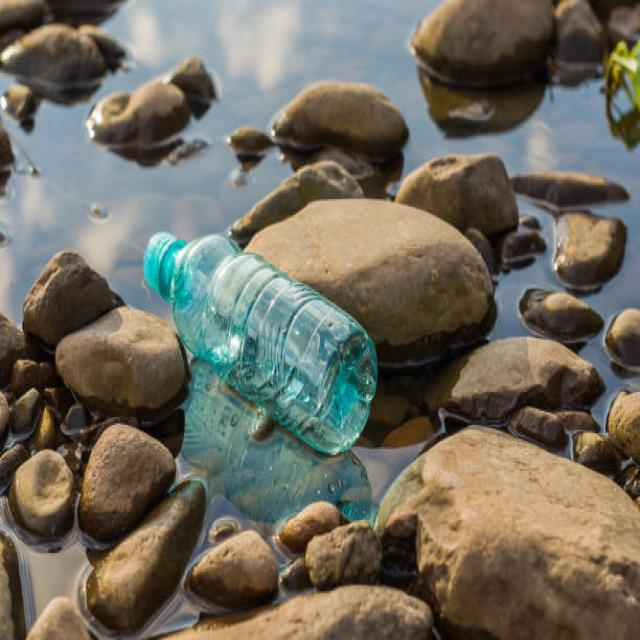plastic: (154, 233, 367, 455)
